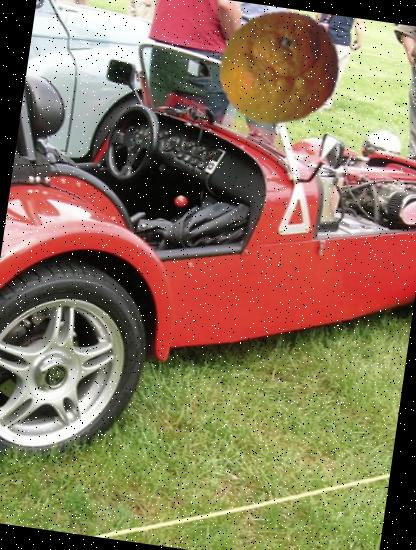Mandarine: (212, 0, 349, 137)
